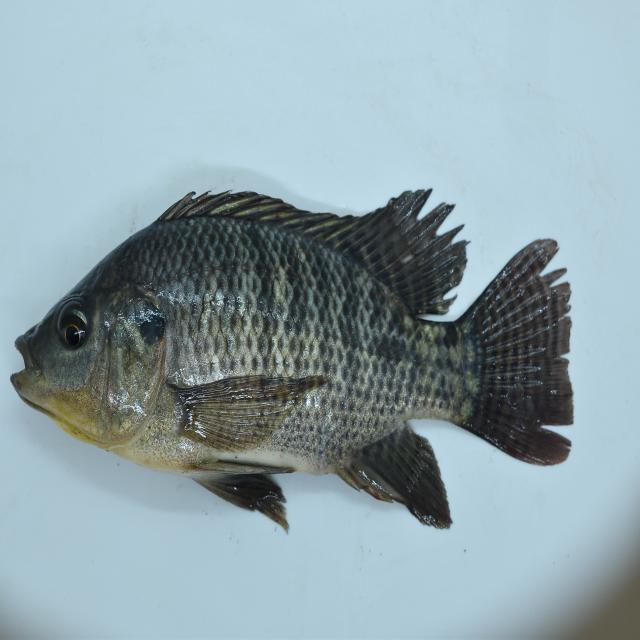Healthy Fish: (8, 185, 580, 528)
